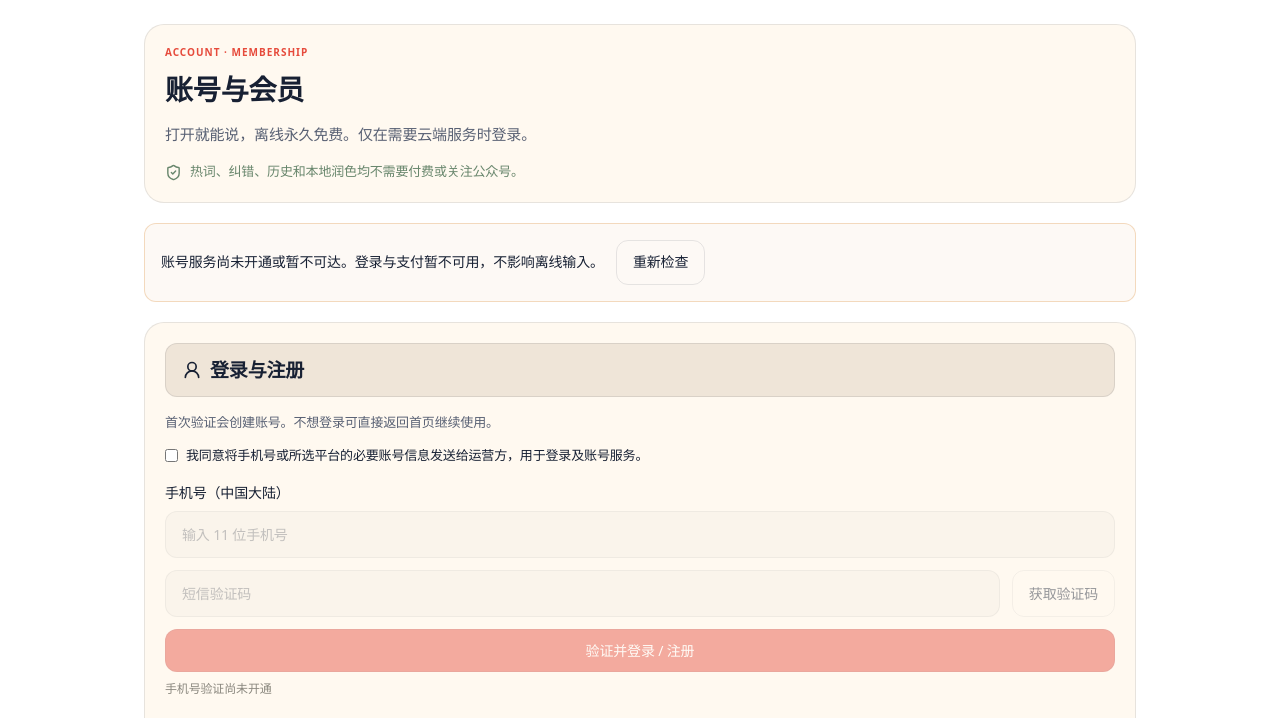
Test case: Legacy cloud account (not the active account route) › keeps offline use free and disables unconfigured login even after consent
Expected: the text "账号服务尚未开通或暂不可达。登录与支付暂不可用，不影响离线输入。 重新检查" is shown, [144,223,1136,302]
Expected: the text "打开就能说，离线永久免费。仅在需要云端服务时登录。" is shown, [165,124,536,144]
Click the checkbox: (172, 455) [165,449,178,462]
(page scrolled)
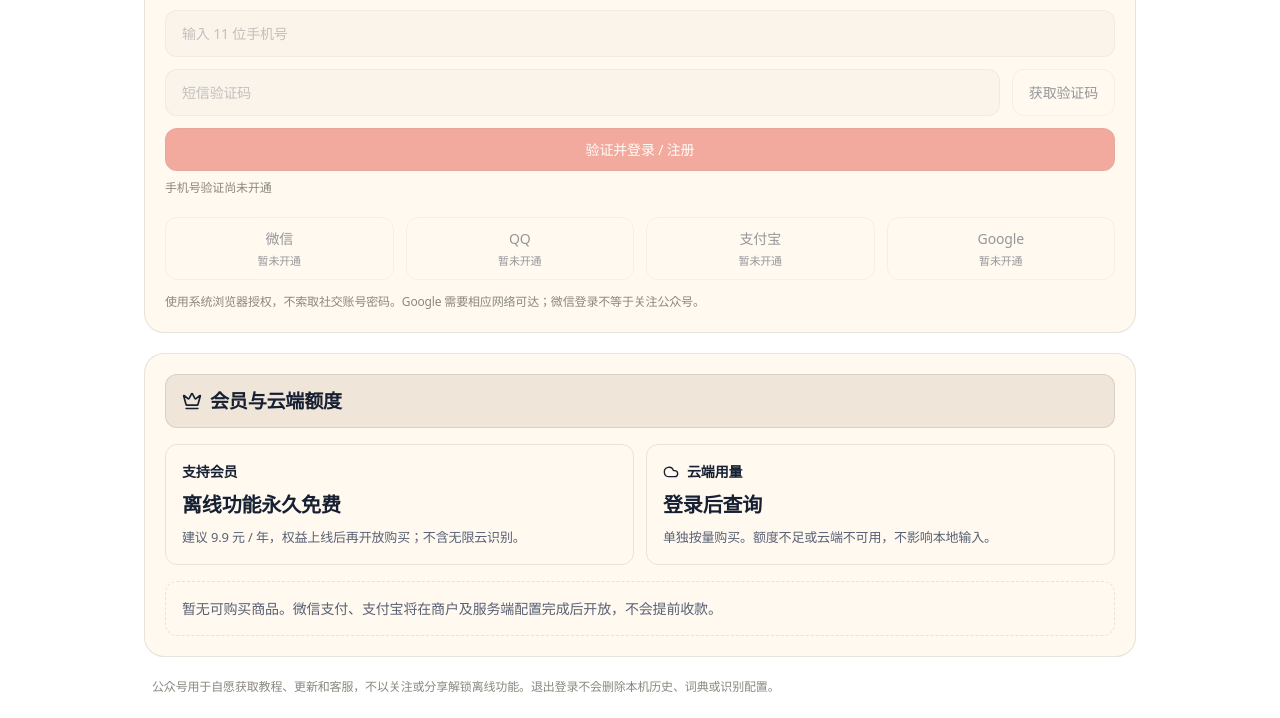
Expected: the field labelled "手机号" is disabled, [165,10,1115,57]
Now the text "暂无可购买商品。微信支付、支付宝将在商户及服务端配置完成后开放，不会提前收款。" is shown, box [165,581,1115,636]
